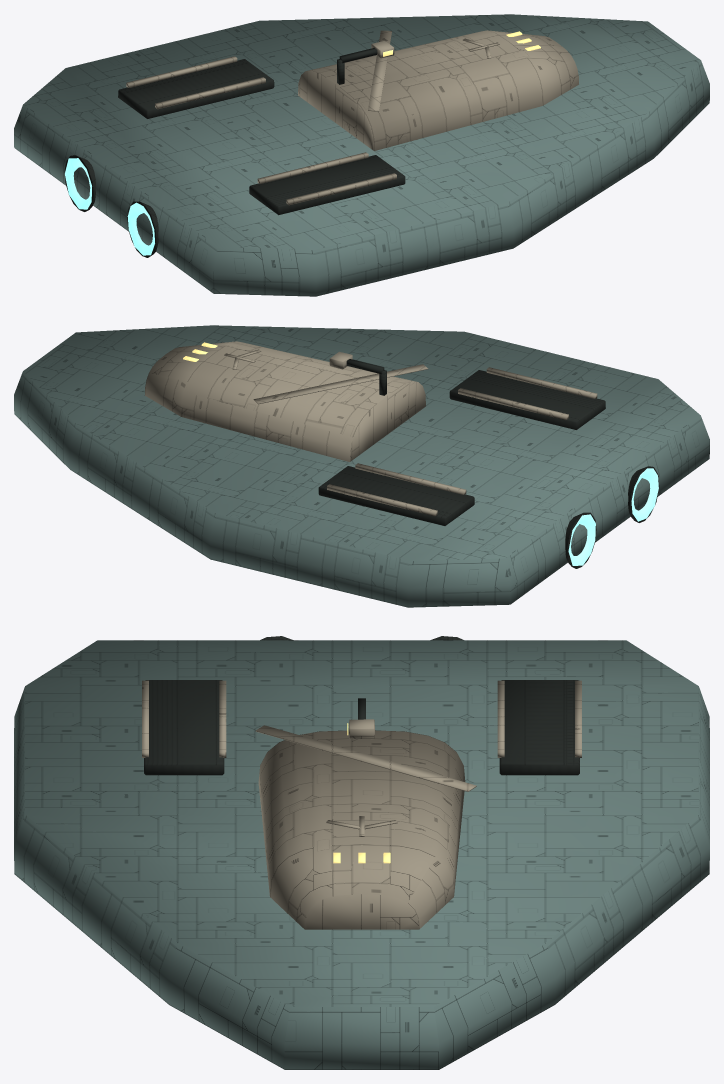
File: towline_kit_lod2.glb
The picture shows the model from 3 angles, top to bottom: view 1: azimuth 30°, elevation 25°; view 2: azimuth 150°, elevation 25°; view 3: azimuth 270°, elevation 25°; orthographic projection. The views are drawn at different scales.
Parts seen in each view (by area): view 1: LOD2_Hull, LOD2_Armor, LOD2_MechanicalDark, LOD2_HOOK_DRIVE_CORE, LOD2_Livery, LOD2_MOTION_TOWLINE_ACKNOWLEDGE_MechanicalDark; view 2: LOD2_Hull, LOD2_Armor, LOD2_MechanicalDark, LOD2_HOOK_DRIVE_CORE, LOD2_Livery, LOD2_MOTION_TOWLINE_ACKNOWLEDGE_MechanicalDark; view 3: LOD2_Hull, LOD2_Armor, LOD2_MechanicalDark, LOD2_Livery.
Boxes of the visible parts, x1,y1,x2,y2 form: LOD2_Hull: (14, 14, 709, 296); LOD2_Armor: (126, 30, 578, 205); LOD2_MechanicalDark: (64, 59, 405, 257); LOD2_HOOK_DRIVE_CORE: (65, 158, 154, 255); LOD2_Livery: (368, 30, 499, 111); LOD2_MOTION_TOWLINE_ACKNOWLEDGE_MechanicalDark: (337, 48, 377, 84); LOD2_Hull: (14, 325, 709, 607); LOD2_Armor: (144, 341, 597, 516); LOD2_MechanicalDark: (318, 370, 659, 568); LOD2_HOOK_DRIVE_CORE: (568, 468, 658, 565); LOD2_Livery: (224, 349, 428, 404); LOD2_MOTION_TOWLINE_ACKNOWLEDGE_MechanicalDark: (346, 359, 386, 395); LOD2_Hull: (14, 640, 709, 1069); LOD2_Armor: (142, 680, 581, 929); LOD2_MechanicalDark: (144, 636, 579, 775); LOD2_Livery: (255, 725, 476, 836).
Size of what is drawn, in the model's own units: 23.13 by 4.69 by 18.
Materials: 6 (4 with a texture image).
